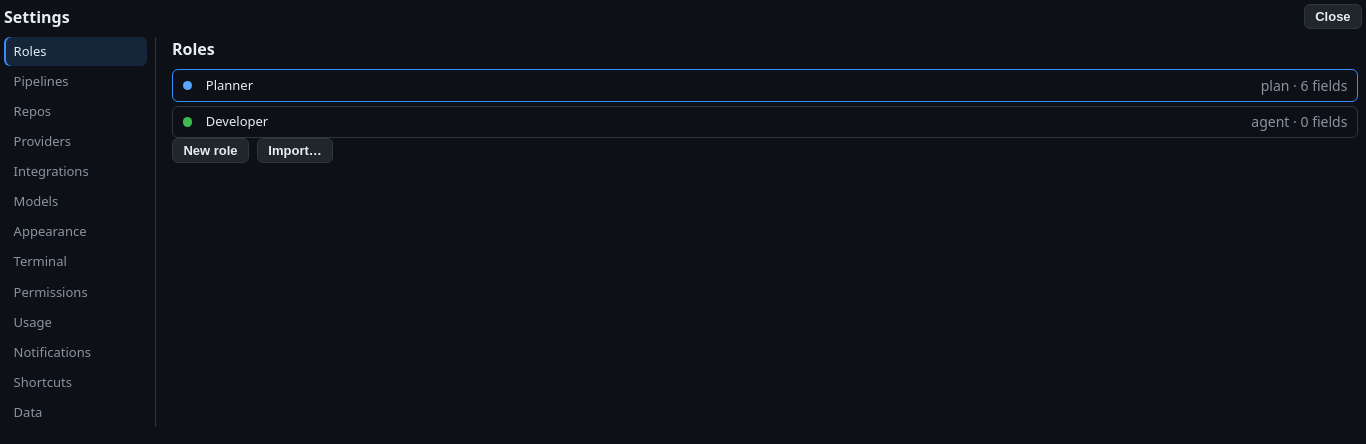
Scenario: SettingsPage categories (U6) › words missing usage as unknown, like the status bar
Click the button "Usage".
click(76, 322)  # box top-left (4, 308), bottom-right (147, 337)
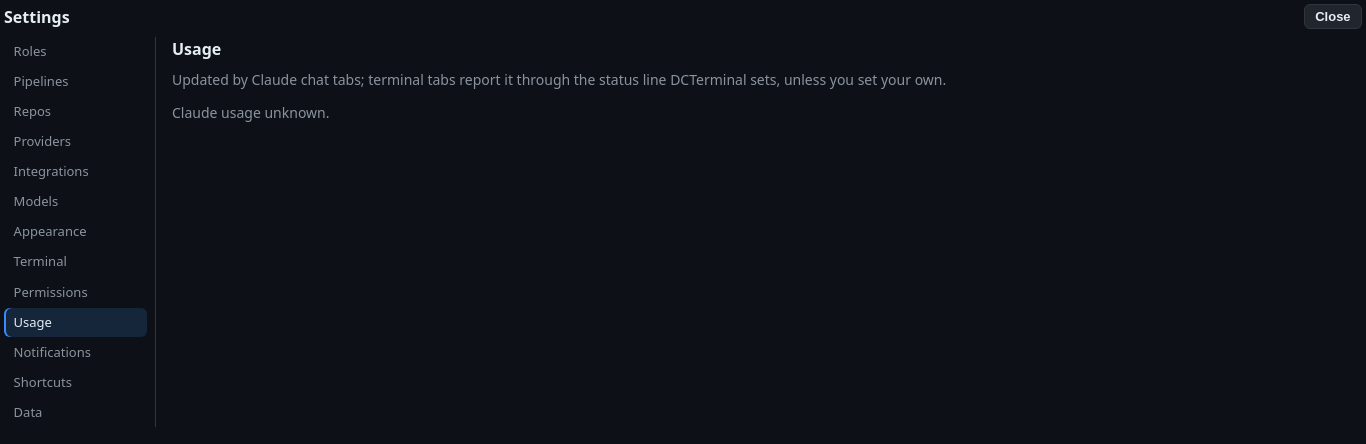
expect the text "Claude usage unknown." is shown: met, box top-left (172, 103), bottom-right (330, 122)
